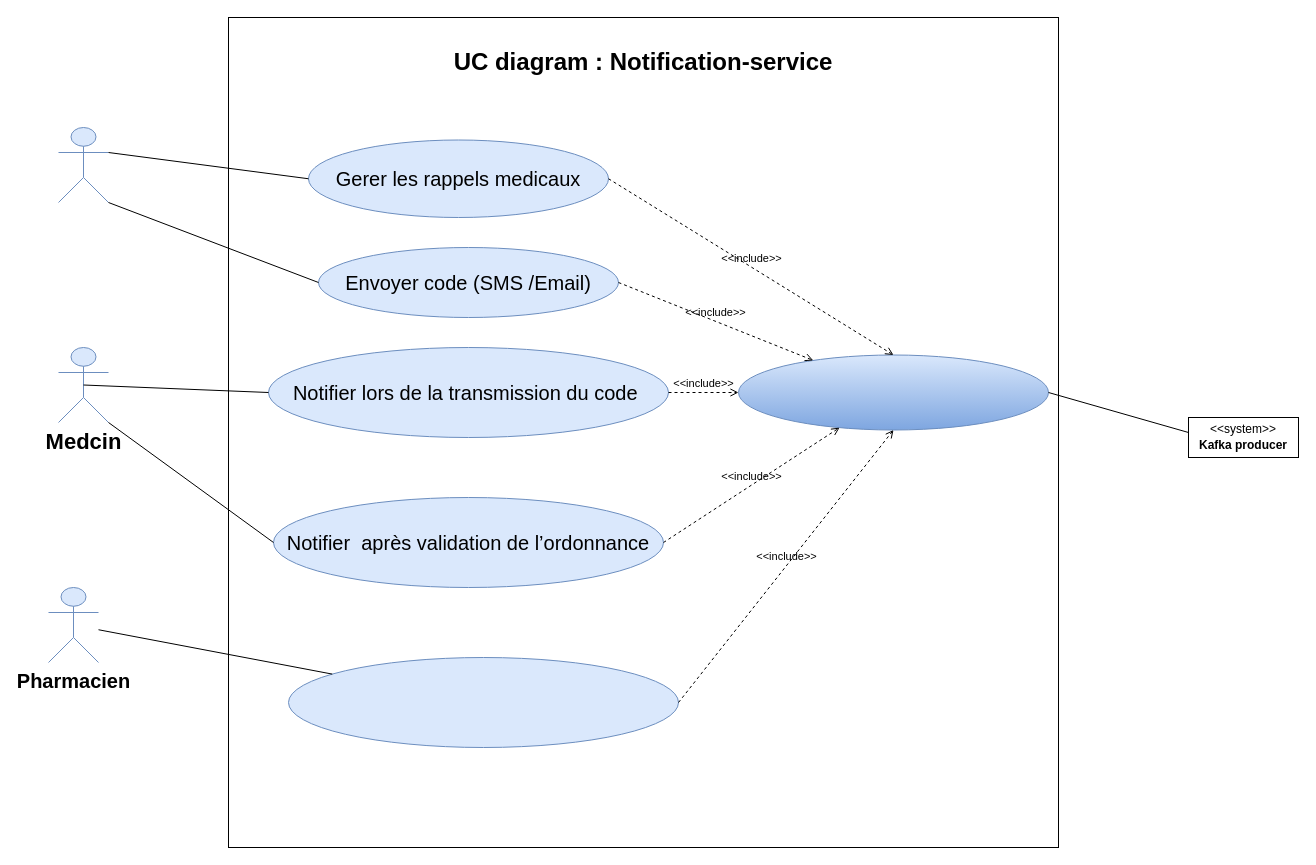
The diagram is 1316 pixels wide and 865 high, and some of its shapes have lost their labels. Each missing label, with the centre of its shape:
"Notifier le pharmacien en cas de rupture de stock" goes at pixel 483 702.
"Patient" goes at pixel 83 164.
"Recevoir un Message kafka" goes at pixel 893 392.
